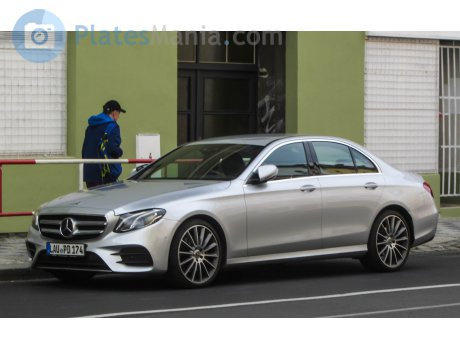License Plates: (50, 244, 84, 251)
